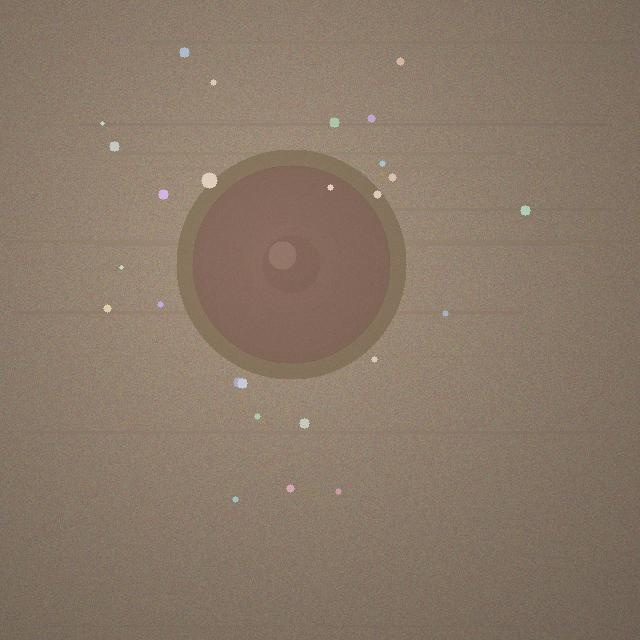overburn: (176, 149, 406, 379)
